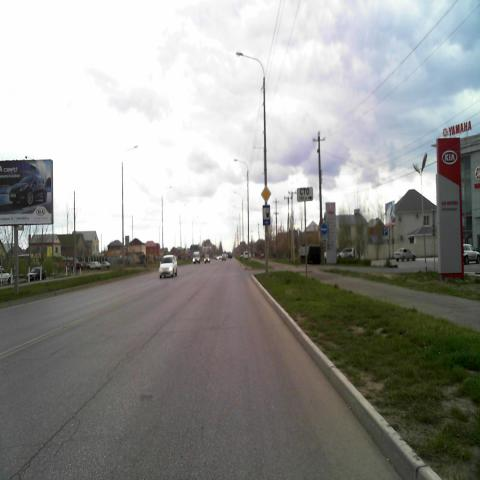7_3: (262, 206, 270, 225)
